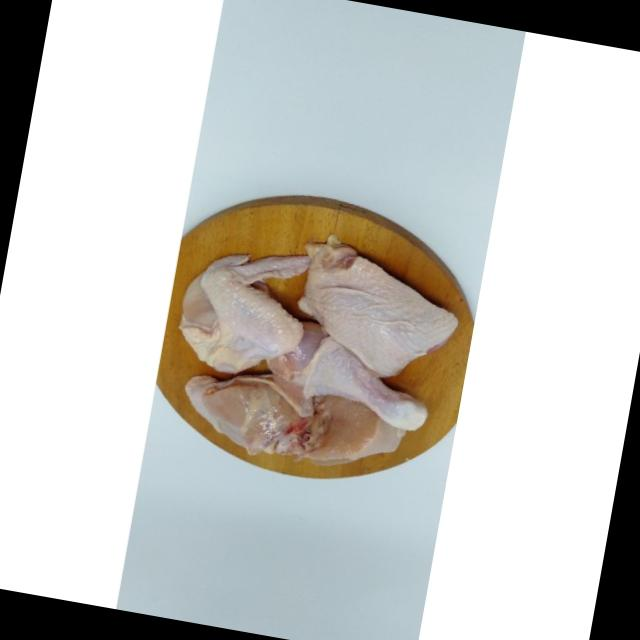Ayam: (284, 232, 468, 388), (176, 370, 404, 476), (261, 312, 441, 433), (172, 232, 313, 383)
